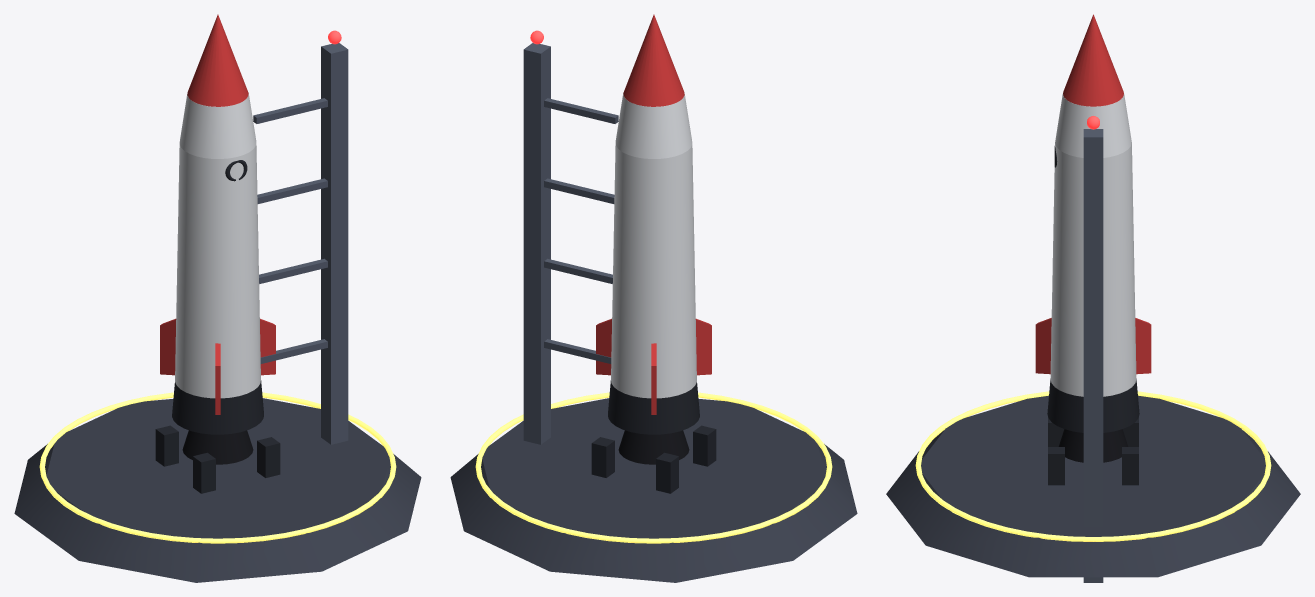
File: rocket.glb
3 renders of one model, left to right at view 1: azimuth 30°, elevation 25°; view 2: azimuth 150°, elevation 25°; view 3: azimuth 270°, elevation 25°, orthographic.
Visible parts, largest first — view 1: LaunchPad, Rocket, Tower; view 2: LaunchPad, Rocket, Tower; view 3: LaunchPad, Rocket, Tower.
Boxes of the visible parts, <box> form: LaunchPad: <box>14,392,421,582</box>; Rocket: <box>160,14,275,464</box>; Tower: <box>253,30,348,444</box>; LaunchPad: <box>450,392,857,582</box>; Rocket: <box>596,14,711,464</box>; Tower: <box>523,30,618,444</box>; LaunchPad: <box>886,391,1300,577</box>; Rocket: <box>1035,14,1151,462</box>; Tower: <box>1083,116,1103,582</box>.
Bounding box in the file's own units: 5.14 × 7.3 × 5.4.
